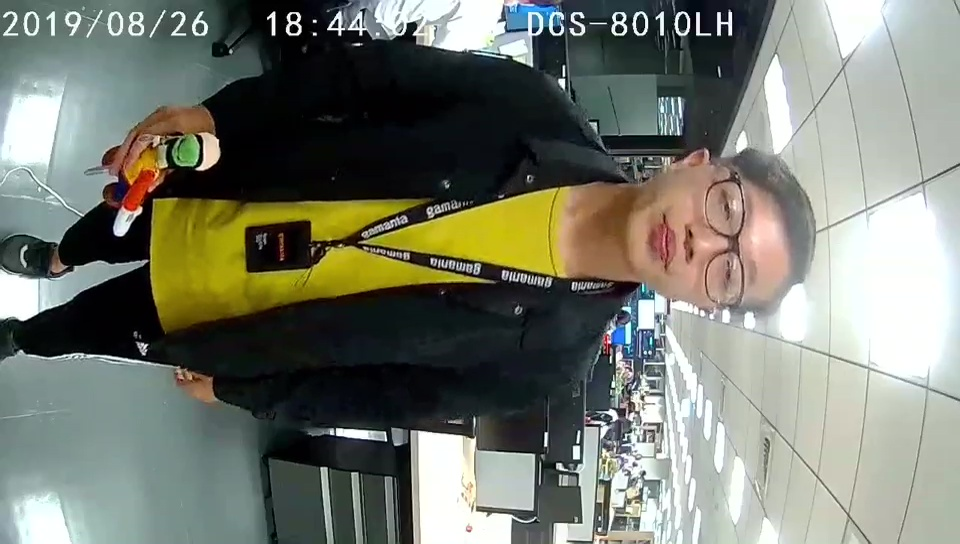goofy: (101, 130, 222, 239)
